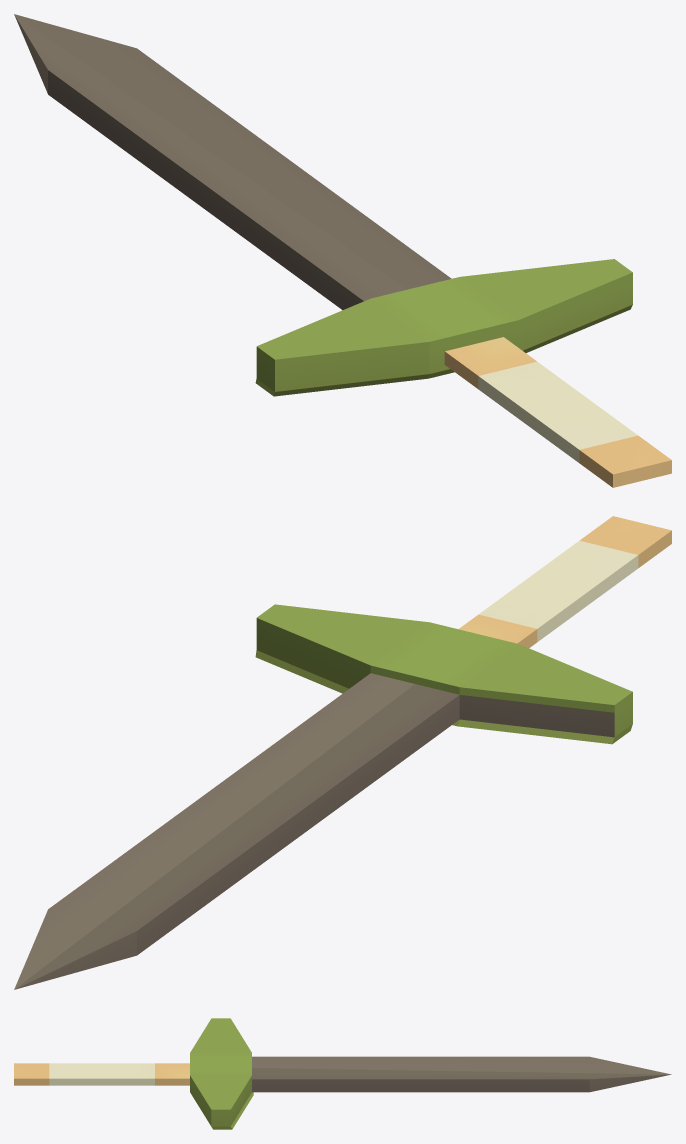
The model's file is SwordBAD.fbx.
3 renders of one model, top to bottom at view 1: azimuth 30°, elevation 25°; view 2: azimuth 150°, elevation 25°; view 3: azimuth 270°, elevation 25°, orthographic. The views are drawn at different scales.
Visible parts, largest first — view 1: Sword; view 2: Sword; view 3: Sword.
Part boxes in pixels (x1=…): Sword: x1=14, y1=14, x2=671, y2=487; Sword: x1=14, y1=516, x2=671, y2=989; Sword: x1=14, y1=1018, x2=671, y2=1129.
Bounding box in the file's own units: 0.2724 × 0.0277 × 0.8282.
